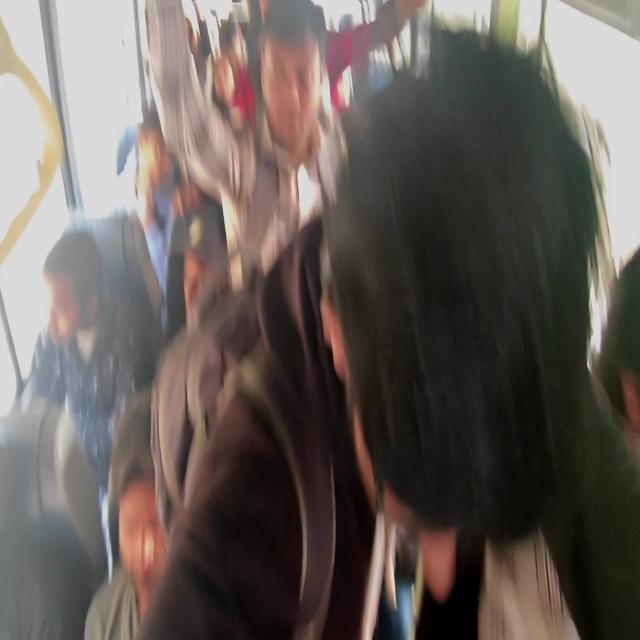person: (374, 98, 572, 529), (108, 447, 182, 608), (261, 1, 335, 146), (31, 229, 103, 367), (179, 203, 237, 325), (604, 252, 640, 418), (132, 112, 173, 170), (173, 0, 200, 66), (219, 18, 250, 56), (210, 54, 231, 104)
